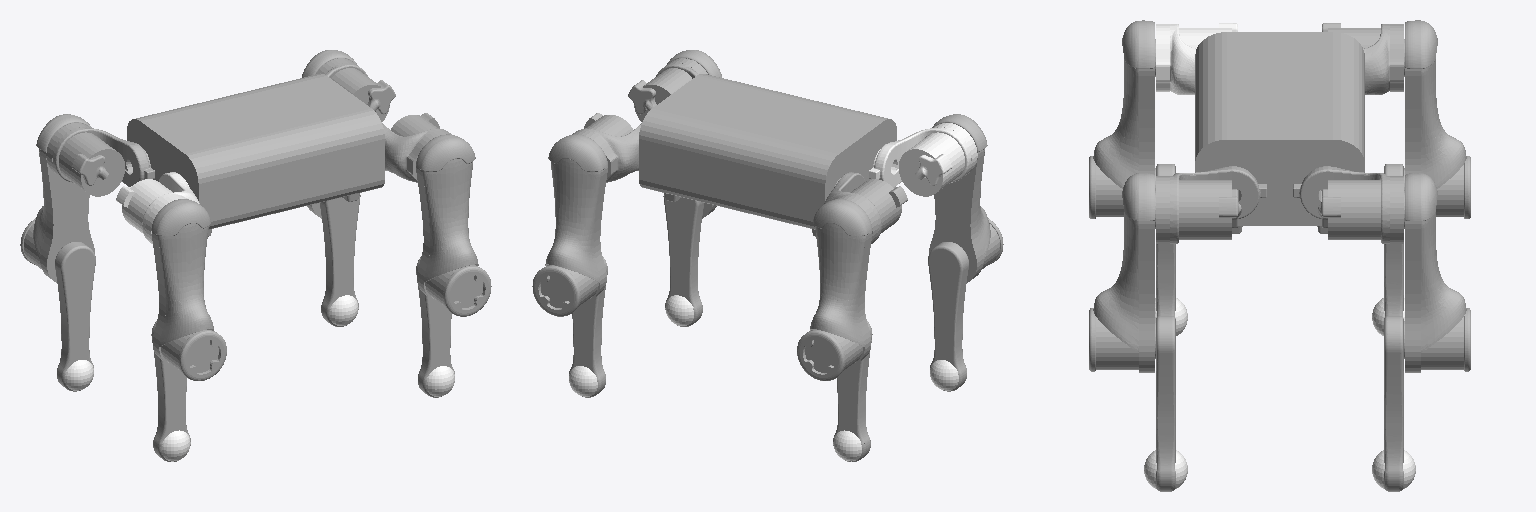
The robot description file, URDF, robot "yun1":
<?xml version="1.0" encoding="utf-8"?>
<!-- This URDF was automatically created by SolidWorks to URDF Exporter! Originally created by [author] ([email redacted]) 
     Commit Version: 1.6.0-1-g15f4949  Build Version: 1.6.7594.29634
     For more information, please see http://wiki.ros.org/sw_urdf_exporter -->
<robot
  name="yun1">
  <link
    name="base_link">
    <inertial>
      <origin
        xyz="0.00383944 0.00032322 0.00132292"
        rpy="0 0 0" />
      <mass
        value="2.87129405" />
      <inertia
        ixx="0.00758086"
        ixy="-5.884e-05"
        ixz="-4.28e-06"
        iyy="0.01707296"
        iyz="-1.288e-05"
        izz="0.02157473" />
    </inertial>
    <visual>
      <origin
        xyz="0 0 0"
        rpy="0 0 0" />
      <geometry>
        <mesh
          filename="../meshes/base_link.STL" />
      </geometry>
      <material 
        name="">
        <color
          rgba="0.752941176470588 0.752941176470588 0.752941176470588 1" />
      </material>
    </visual>
    <collision>
      <origin
        xyz="0 0 0"
        rpy="0 0 0" />
      <geometry>
        <mesh
          filename="../meshes/base_link.STL" />
      </geometry>
    </collision>
  </link>
  <link
    name="fl_hip_Link">
    <inertial>
      <origin
        xyz="0.05181106 0.02890945 -0.00025930"
        rpy="0 0 0" />
      <mass
        value="0.40036239" />
      <inertia
        ixx="0.00027388"
        ixy="3.434e-05"
        ixz="-1.58e-06"
        iyy="0.00028655"
        iyz="-1.64e-06"
        izz="0.00034645" />
    </inertial>
    <visual>
      <origin
        xyz="0 0 0"
        rpy="0 0 0" />
      <geometry>
        <mesh
          filename="../meshes/fl_hip_Link.STL" />
      </geometry>
      <material
        name="">
        <color
          rgba="0.752941176470588 0.752941176470588 0.752941176470588 1" />
      </material>
    </visual>
    <collision>
      <origin
        xyz="0 0 0"
        rpy="0 0 0" />
      <geometry>
        <mesh
          filename="../meshes/fl_hip_Link.STL" />
      </geometry>
    </collision>
  </link>
  <joint
    name="fl_hip_Joint"
    type="revolute">
    <origin
      xyz="0.1125 0.045 0"
      rpy="0 0 0" />
    <parent
      link="base_link" />
    <child
      link="fl_hip_Link" />
    <axis
      xyz="1 0 0" />
    <limit
      lower="-0.6981"
      upper="0.6981"
      effort="14"
      velocity="17" />
  </joint>
  <link
    name="fl_thigh_Link">
    <inertial>
      <origin
        xyz="-0.00025469 0.04391819 -0.10445464"
        rpy="0 0 0" />
      <mass
        value="0.47156059" />
      <inertia
        ixx="0.00157037"
        ixy="-7.2e-07"
        ixz="3.68e-06"
        iyy="0.00153438"
        iyz="-0.00020301"
        izz="0.00030139" />
    </inertial>
    <visual>
      <origin
        xyz="0 0 0"
        rpy="0 0 0" />
      <geometry>
        <mesh
          filename="../meshes/fl_thigh_Link.STL" />
      </geometry>
      <material
        name="">
        <color
          rgba="0.75294 0.75294 0.75294 1" />
      </material>
    </visual>
    <collision>
      <origin
        xyz="0 0 0"
        rpy="0 0 0" />
      <geometry>
        <mesh
          filename="../meshes/fl_thigh_Link.STL" />
      </geometry>
    </collision>
  </link>
  <joint
    name="fl_thigh_Joint"
    type="revolute">
    <origin
      xyz="0.0575 0.0525 0"
      rpy="0 0 0" />
    <parent
      link="fl_hip_Link" />
    <child
      link="fl_thigh_Link" />
    <axis
      xyz="0 1 0" />
    <limit
      lower="-2.7925"
      upper="2.7925"
      effort="14"
      velocity="17" />
  </joint>
  <link
    name="fl_calf_Link">
    <inertial>
      <origin
        xyz="-2.5e-06 -0.01533174 -0.06951052"
        rpy="0 0 0" />
      <mass
        value="0.08358392" />
      <inertia
        ixx="0.00024129"
        ixy="0"
        ixz="0"
        iyy="0.00024771"
        iyz="3.88e-06"
        izz="1.351e-05" />
    </inertial>
    <visual>
      <origin
        xyz="0 0 0"
        rpy="0 0 0" />
      <geometry>
        <mesh
          filename="../meshes/fl_calf_Link.STL" />
      </geometry>
      <material
        name="">
        <color
          rgba="0.752941176470588 0.752941176470588 0.752941176470588 1" />
      </material>
    </visual>
    <collision>
      <origin
        xyz="0 0 0"
        rpy="0 0 0" />
      <geometry>
        <mesh
          filename="../meshes/fl_calf_Link.STL" />
      </geometry>
    </collision>
  </link>
  <joint
    name="fl_calf_Joint"
    type="revolute">
    <origin
      xyz="0 0.026 -0.135"
      rpy="0 0 0" />
    <parent
      link="fl_thigh_Link" />
    <child
      link="fl_calf_Link" />
    <axis
      xyz="0 1 0" />
    <limit
      lower="-2.5307"
      upper="2.5307"
      effort="14"
      velocity="17" />
  </joint>
  <link
    name="fl_foot_Link">
    <inertial>
      <origin
        xyz="0 0 0"
        rpy="0 0 0" />
      <mass
        value="0.04" />
      <inertia
        ixx="9.6e-06"
        ixy="0"
        ixz="0"
        iyy="9.6e-06"
        iyz="0"
        izz="9.6e-06" />
    </inertial>
    <visual>
      <origin
        xyz="0 0 0"
        rpy="0 0 0" />
      <geometry>
        <sphere radius="0.02075" />
      </geometry>
      <material
        name="">
        <color
          rgba="1 1 1 1" />
      </material>
    </visual>
    <collision>
      <origin rpy="0 0 0" xyz="0 0 0" />
      <geometry>
        <sphere radius="0.02075" />
      </geometry>
    </collision>
  </link>
  <joint
    name="fl_foot_Joint"
    type="fixed" dont_collapse="true">
    <origin
      xyz="0 -0.016 -0.135"
      rpy="0 0 0" />
    <parent
      link="fl_calf_Link" />
    <child
      link="fl_foot_Link" />
    <axis
      xyz="0 0 0" />
  </joint>
  <link
    name="fr_hip_Link">
    <inertial>
      <origin
        xyz="0.05151195 -0.02890203 0.00025989"
        rpy="0 0 0" />
      <mass
        value="0.40021841" />
      <inertia
        ixx="0.00027389"
        ixy="-3.437e-05"
        ixz="-3.4e-07"
        iyy="0.00028504"
        iyz="1.72e-06"
        izz="0.00034478" />
    </inertial>
    <visual>
      <origin
        xyz="0 0 0"
        rpy="0 0 0" />
      <geometry>
        <mesh
          filename="../meshes/fr_hip_Link.STL" />
      </geometry>
      <material
        name="">
        <color
          rgba="0.752941176470588 0.752941176470588 0.752941176470588 1" />
      </material>
    </visual>
    <collision>
      <origin
        xyz="0 0 0"
        rpy="0 0 0" />
      <geometry>
        <mesh
          filename="../meshes/fr_hip_Link.STL" />
      </geometry>
    </collision>
  </link>
  <joint
    name="fr_hip_Joint"
    type="revolute">
    <origin
      xyz="0.1125 -0.045 0"
      rpy="0 0 0" />
    <parent
      link="base_link" />
    <child
      link="fr_hip_Link" />
    <axis
      xyz="1 0 0" />
    <limit
      lower="-0.6981"
      upper="0.6981"
      effort="14"
      velocity="17" />
  </joint>
  <link
    name="fr_thigh_Link">
    <inertial>
      <origin
        xyz="0.00025469 -0.04391819 -0.10445464"
        rpy="0 0 0" />
      <mass
        value="0.47156059" />
      <inertia
        ixx="0.00157037"
        ixy="-7.2e-07"
        ixz="-3.68e-06"
        iyy="0.00153438"
        iyz="0.00020301"
        izz="0.00030139" />
    </inertial>
    <visual>
      <origin
        xyz="0 0 0"
        rpy="0 0 0" />
      <geometry>
        <mesh
          filename="../meshes/fr_thigh_Link.STL" />
      </geometry>
      <material
        name="">
        <color
          rgba="0.75294 0.75294 0.75294 1" />
      </material>
    </visual>
    <collision>
      <origin
        xyz="0 0 0"
        rpy="0 0 0" />
      <geometry>
        <mesh
          filename="../meshes/fr_thigh_Link.STL" />
      </geometry>
    </collision>
  </link>
  <joint
    name="fr_thigh_Joint"
    type="revolute">
    <origin
      xyz="0.0575 -0.0525 0"
      rpy="0 0 0" />
    <parent
      link="fr_hip_Link" />
    <child
      link="fr_thigh_Link" />
    <axis
      xyz="0 1 0" />
    <limit
      lower="-2.7925"
      upper="2.7925"
      effort="14"
      velocity="17" />
  </joint>
  <link
    name="fr_calf_Link">
    <inertial>
      <origin
        xyz="2.5e-06 0.01533174 -0.06951052"
        rpy="0 0 0" />
      <mass
        value="0.08358392" />
      <inertia
        ixx="0.00024129"
        ixy="0"
        ixz="0"
        iyy="0.00024771"
        iyz="-3.88e-06"
        izz="1.351e-05" />
    </inertial>
    <visual>
      <origin
        xyz="0 0 0"
        rpy="0 0 0" />
      <geometry>
        <mesh
          filename="../meshes/fr_calf_Link.STL" />
      </geometry>
      <material
        name="">
        <color
          rgba="0.752941176470588 0.752941176470588 0.752941176470588 1" />
      </material>
    </visual>
    <collision>
      <origin
        xyz="0 0 0"
        rpy="0 0 0" />
      <geometry>
        <mesh
          filename="../meshes/fr_calf_Link.STL" />
      </geometry>
    </collision>
  </link>
  <joint
    name="fr_calf_Joint"
    type="revolute">
    <origin
      xyz="0 -0.026 -0.135"
      rpy="0 0 0" />
    <parent
      link="fr_thigh_Link" />
    <child
      link="fr_calf_Link" />
    <axis
      xyz="0 1 0" />
    <limit
      lower="-2.5307"
      upper="2.5307"
      effort="14"
      velocity="17" />
  </joint>
  <link
    name="fr_foot_Link">
    <inertial>
      <origin
        xyz="0 0 0"
        rpy="0 0 0" />
      <mass
        value="0.04" />
      <inertia
        ixx="9.6e-06"
        ixy="0"
        ixz="0"
        iyy="9.6e-06"
        iyz="0"
        izz="9.6e-06" />
    </inertial>
    <visual>
      <origin
        xyz="0 0 0"
        rpy="0 0 0" />
      <geometry>
        <sphere radius="0.02075" />
      </geometry>
      <material
        name="">
        <color
          rgba="1 1 1 1" />
      </material>
    </visual>
    <collision>
      <origin rpy="0 0 0" xyz="0 0 0" />
      <geometry>
        <sphere radius="0.02075" />
      </geometry>
    </collision>
  </link>
  <joint
    name="fr_foot_Joint"
    type="fixed" dont_collapse="true">
    <origin
      xyz="0 0.016 -0.135"
      rpy="0 0 0" />
    <parent
      link="fr_calf_Link" />
    <child
      link="fr_foot_Link" />
    <axis
      xyz="0 0 0" />
  </joint>
  <link
    name="rl_hip_Link">
    <inertial>
      <origin
        xyz="-0.05151195 0.02890203 0.00025989"
        rpy="0 0 0" />
      <mass
        value="0.40021841" />
      <inertia
        ixx="0.00027389"
        ixy="-3.437e-05"
        ixz="3.4e-07"
        iyy="0.00028504"
        iyz="-1.72e-06"
        izz="0.00034478" />
    </inertial>
    <visual>
      <origin
        xyz="0 0 0"
        rpy="0 0 0" />
      <geometry>
        <mesh
          filename="../meshes/rl_hip_Link.STL" />
      </geometry>
      <material
        name="">
        <color
          rgba="0.752941176470588 0.752941176470588 0.752941176470588 1" />
      </material>
    </visual>
    <collision>
      <origin
        xyz="0 0 0"
        rpy="0 0 0" />
      <geometry>
        <mesh
          filename="../meshes/rl_hip_Link.STL" />
      </geometry>
    </collision>
  </link>
  <joint
    name="rl_hip_Joint"
    type="revolute">
    <origin
      xyz="-0.1125 0.045 0"
      rpy="0 0 0" />
    <parent
      link="base_link" />
    <child
      link="rl_hip_Link" />
    <axis
      xyz="1 0 0" />
    <limit
      lower="-0.6981"
      upper="0.6981"
      effort="14"
      velocity="17" />
  </joint>
  <link
    name="rl_thigh_Link">
    <inertial>
      <origin
        xyz="-0.00025469 0.04391819 -0.10445464"
        rpy="0 0 0" />
      <mass
        value="0.47156059" />
      <inertia
        ixx="0.00157037"
        ixy="-7.2e-07"
        ixz="3.68e-06"
        iyy="0.00153438"
        iyz="-0.00020301"
        izz="0.00030139" />
    </inertial>
    <visual>
      <origin
        xyz="0 0 0"
        rpy="0 0 0" />
      <geometry>
        <mesh
          filename="../meshes/rl_thigh_Link.STL" />
      </geometry>
      <material
        name="">
        <color
          rgba="0.752941176470588 0.752941176470588 0.752941176470588 1" />
      </material>
    </visual>
    <collision>
      <origin
        xyz="0 0 0"
        rpy="0 0 0" />
      <geometry>
        <mesh
          filename="../meshes/rl_thigh_Link.STL" />
      </geometry>
    </collision>
  </link>
  <joint
    name="rl_thigh_Joint"
    type="revolute">
    <origin
      xyz="-0.0575 0.0525 0"
      rpy="0 0 0" />
    <parent
      link="rl_hip_Link" />
    <child
      link="rl_thigh_Link" />
    <axis
      xyz="0 1 0" />
    <limit
      lower="-2.7925"
      upper="2.7925"
      effort="14"
      velocity="17" />
  </joint>
  <link
    name="rl_calf_Link">
    <inertial>
      <origin
        xyz="-2.5e-06 -0.01533174 -0.06951052"
        rpy="0 0 0" />
      <mass
        value="0.08358392" />
      <inertia
        ixx="0.00024129"
        ixy="0"
        ixz="0"
        iyy="0.00024771"
        iyz="3.88e-06"
        izz="1.351e-05" />
    </inertial>
    <visual>
      <origin
        xyz="0 0 0"
        rpy="0 0 0" />
      <geometry>
        <mesh
          filename="../meshes/rl_calf_Link.STL" />
      </geometry>
      <material
        name="">
        <color
          rgba="0.752941176470588 0.752941176470588 0.752941176470588 1" />
      </material>
    </visual>
    <collision>
      <origin
        xyz="0 0 0"
        rpy="0 0 0" />
      <geometry>
        <mesh
          filename="../meshes/rl_calf_Link.STL" />
      </geometry>
    </collision>
  </link>
  <joint
    name="rl_calf_Joint"
    type="revolute">
    <origin
      xyz="0 0.026 -0.135"
      rpy="0 0 0" />
    <parent
      link="rl_thigh_Link" />
    <child
      link="rl_calf_Link" />
    <axis
      xyz="0 1 0" />
    <limit
      lower="-2.5307"
      upper="2.5307"
      effort="14"
      velocity="17" />
  </joint>
  <link
    name="rl_foot_Link">
    <inertial>
      <origin
        xyz="0 0 0"
        rpy="0 0 0" />
      <mass
        value="0.04" />
      <inertia
        ixx="9.6e-06"
        ixy="0"
        ixz="0"
        iyy="9.6e-06"
        iyz="0"
        izz="9.6e-06" />
    </inertial>
    <visual>
      <origin
        xyz="0 0 0"
        rpy="0 0 0" />
      <geometry>
        <sphere radius="0.02075" />
      </geometry>
      <material
        name="">
        <color
          rgba="1 1 1 1" />
      </material>
    </visual>
    <collision>
      <origin rpy="0 0 0" xyz="0 0 0" />
      <geometry>
        <sphere radius="0.02075" />
      </geometry>
    </collision>
  </link>
  <joint
    name="rl_foot_Joint"
    type="fixed" dont_collapse="true">
    <origin
      xyz="0 -0.016 -0.135"
      rpy="0 0 0" />
    <parent
      link="rl_calf_Link" />
    <child
      link="rl_foot_Link" />
    <axis
      xyz="0 0 0" />
  </joint>
  <link
    name="rr_hip_Link">
    <inertial>
      <origin
        xyz="-0.05181106 -0.02890945 -0.0002593"
        rpy="0 0 0" />
      <mass
        value="0.40036239" />
      <inertia
        ixx="0.00027388"
        ixy="3.434e-05"
        ixz="1.59e-06"
        iyy="0.00028655"
        iyz="1.64e-06"
        izz="0.00034645" />
    </inertial>
    <visual>
      <origin
        xyz="0 0 0"
        rpy="0 0 0" />
      <geometry>
        <mesh
          filename="../meshes/rr_hip_Link.STL" />
      </geometry>
      <material
        name="">
        <color
          rgba="1 1 1 1" />
      </material>
    </visual>
    <collision>
      <origin
        xyz="0 0 0"
        rpy="0 0 0" />
      <geometry>
        <mesh
          filename="../meshes/rr_hip_Link.STL" />
      </geometry>
    </collision>
  </link>
  <joint
    name="rr_hip_Joint"
    type="revolute">
    <origin
      xyz="-0.1125 -0.045 0"
      rpy="0 0 0" />
    <parent
      link="base_link" />
    <child
      link="rr_hip_Link" />
    <axis
      xyz="1 0 0" />
    <limit
      lower="-0.6981"
      upper="0.6981"
      effort="14"
      velocity="17" />
  </joint>
  <link
    name="rr_thigh_Link">
    <inertial>
      <origin
        xyz="0.00025469 -0.04391819 -0.10445464"
        rpy="0 0 0" />
      <mass
        value="0.47156059" />
      <inertia
        ixx="0.00157037"
        ixy="-7.2e-07"
        ixz="-3.68e-06"
        iyy="0.00153438"
        iyz="0.00020301"
        izz="0.00030139" />
    </inertial>
    <visual>
      <origin
        xyz="0 0 0"
        rpy="0 0 0" />
      <geometry>
        <mesh
          filename="../meshes/rr_thigh_Link.STL" />
      </geometry>
      <material
        name="">
        <color
          rgba="0.752941176470588 0.752941176470588 0.752941176470588 1" />
      </material>
    </visual>
    <collision>
      <origin
        xyz="0 0 0"
        rpy="0 0 0" />
      <geometry>
        <mesh
          filename="../meshes/rr_thigh_Link.STL" />
      </geometry>
    </collision>
  </link>
  <joint
    name="rr_thigh_Joint"
    type="revolute">
    <origin
      xyz="-0.0575 -0.0525 0"
      rpy="0 0 0" />
    <parent
      link="rr_hip_Link" />
    <child
      link="rr_thigh_Link" />
    <axis
      xyz="0 1 0" />
    <limit
      lower="-2.7925"
      upper="2.7925"
      effort="14"
      velocity="17" />
  </joint>
  <link
    name="rr_calf_Link">
    <inertial>
      <origin
        xyz="2.5e-06 0.01533174 -0.06951052"
        rpy="0 0 0" />
      <mass
        value="0.08358392" />
      <inertia
        ixx="0.00024129"
        ixy="0"
        ixz="0"
        iyy="0.00024771"
        iyz="-3.88e-06"
        izz="1.351e-05" />
    </inertial>
    <visual>
      <origin
        xyz="0 0 0"
        rpy="0 0 0" />
      <geometry>
        <mesh
          filename="../meshes/rr_calf_Link.STL" />
      </geometry>
      <material
        name="">
        <color
          rgba="0.752941176470588 0.752941176470588 0.752941176470588 1" />
      </material>
    </visual>
    <collision>
      <origin
        xyz="0 0 0"
        rpy="0 0 0" />
      <geometry>
        <mesh
          filename="../meshes/rr_calf_Link.STL" />
      </geometry>
    </collision>
  </link>
  <joint
    name="rr_calf_Joint"
    type="revolute">
    <origin
      xyz="0 -0.026 -0.135"
      rpy="0 0 0" />
    <parent
      link="rr_thigh_Link" />
    <child
      link="rr_calf_Link" />
    <axis
      xyz="0 1 0" />
    <limit
      lower="-2.5307"
      upper="2.5307"
      effort="14"
      velocity="17" />
  </joint>
  <link
    name="rr_foot_Link">
    <inertial>
      <origin
        xyz="0 0 0"
        rpy="0 0 0" />
      <mass
        value="0.04" />
      <inertia
        ixx="9.6e-06"
        ixy="0"
        ixz="0"
        iyy="9.6e-06"
        iyz="0"
        izz="9.6e-06" />
    </inertial>
    <visual>
      <origin
        xyz="0 0 0"
        rpy="0 0 0" />
      <geometry>
        <sphere radius="0.02075" />
      </geometry>
      <material
        name="">
        <color
          rgba="1 1 1 1" />
      </material>
    </visual>
    <collision>
      <origin rpy="0 0 0" xyz="0 0 0" />
      <geometry>
        <sphere radius="0.02075" />
      </geometry>
    </collision>
  </link>
  <joint
    name="rr_foot_Joint"
    type="fixed" dont_collapse="true">
    <origin
      xyz="0 0.016 -0.135"
      rpy="0 0 0" />
    <parent
      link="rr_calf_Link" />
    <child
      link="rr_foot_Link" />
    <axis
      xyz="0 0 0" />
  </joint>
</robot>

--- Facts derived from the render (not from the file) ---
3 views of the same robot in one strip: view 1: azimuth 30°, elevation 25°; view 2: azimuth 150°, elevation 25°; view 3: azimuth 270°, elevation 25° (orthographic).
Robot: yun1 — 17 links, 16 joints (12 revolute, 4 fixed); root link base_link; default pose: all joints at 0.
Links seen in each view (by area): view 1: base_link, fr_thigh_Link, rr_thigh_Link, rl_hip_Link, rl_thigh_Link, rl_calf_Link, fl_calf_Link, rr_hip_Link, fr_hip_Link, fr_calf_Link, rr_calf_Link, fl_hip_Link (+5 smaller); view 2: base_link, fl_thigh_Link, rl_thigh_Link, rr_hip_Link, rr_thigh_Link, rr_calf_Link, fr_calf_Link, rl_hip_Link, fl_hip_Link, rl_calf_Link, fl_calf_Link, fr_hip_Link (+5 smaller); view 3: base_link, fl_thigh_Link, fr_thigh_Link, rl_thigh_Link, rr_thigh_Link, fr_hip_Link, fl_hip_Link, fl_calf_Link, fr_calf_Link, rl_hip_Link, rr_hip_Link, rl_calf_Link (+3 smaller).
Boxes of the visible links, bbox=[...] form: base_link: bbox=[127, 73, 384, 236]; fr_thigh_Link: bbox=[416, 134, 491, 316]; rr_thigh_Link: bbox=[151, 199, 226, 380]; rl_hip_Link: bbox=[46, 123, 154, 196]; rl_thigh_Link: bbox=[20, 114, 94, 282]; rl_calf_Link: bbox=[55, 242, 95, 391]; fl_calf_Link: bbox=[320, 195, 360, 326]; rr_hip_Link: bbox=[116, 172, 199, 243]; fr_hip_Link: bbox=[382, 113, 451, 182]; fr_calf_Link: bbox=[416, 257, 454, 397]; rr_calf_Link: bbox=[151, 321, 190, 461]; fl_hip_Link: bbox=[316, 58, 395, 121]; base_link: bbox=[639, 74, 896, 236]; fl_thigh_Link: bbox=[532, 134, 607, 316]; rl_thigh_Link: bbox=[797, 199, 872, 380]; rr_hip_Link: bbox=[869, 123, 977, 196]; rr_thigh_Link: bbox=[929, 114, 1003, 282]; rr_calf_Link: bbox=[928, 242, 968, 391]; fr_calf_Link: bbox=[663, 196, 703, 326]; rl_hip_Link: bbox=[824, 172, 907, 243]; fl_hip_Link: bbox=[572, 113, 641, 182]; rl_calf_Link: bbox=[833, 321, 872, 461]; fl_calf_Link: bbox=[569, 257, 607, 397]; fr_hip_Link: bbox=[628, 58, 707, 121]; base_link: bbox=[1195, 32, 1364, 233]; fl_thigh_Link: bbox=[1404, 173, 1470, 372]; fr_thigh_Link: bbox=[1089, 173, 1155, 372]; rl_thigh_Link: bbox=[1404, 20, 1470, 218]; rr_thigh_Link: bbox=[1089, 20, 1155, 218]; fr_hip_Link: bbox=[1156, 166, 1266, 243]; fl_hip_Link: bbox=[1293, 166, 1403, 243]; fl_calf_Link: bbox=[1384, 316, 1404, 491]; fr_calf_Link: bbox=[1155, 316, 1175, 491]; rl_hip_Link: bbox=[1322, 23, 1403, 94]; rr_hip_Link: bbox=[1156, 23, 1237, 94]; rl_calf_Link: bbox=[1384, 164, 1404, 318].
Bounding box of the posed robot: 0.4093 × 0.361 × 0.3408 m (x, y, z).
13 mesh visuals loaded from 13 distinct referenced files (13 binary STL).
